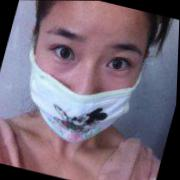WRONG: (18, 10, 153, 142)
